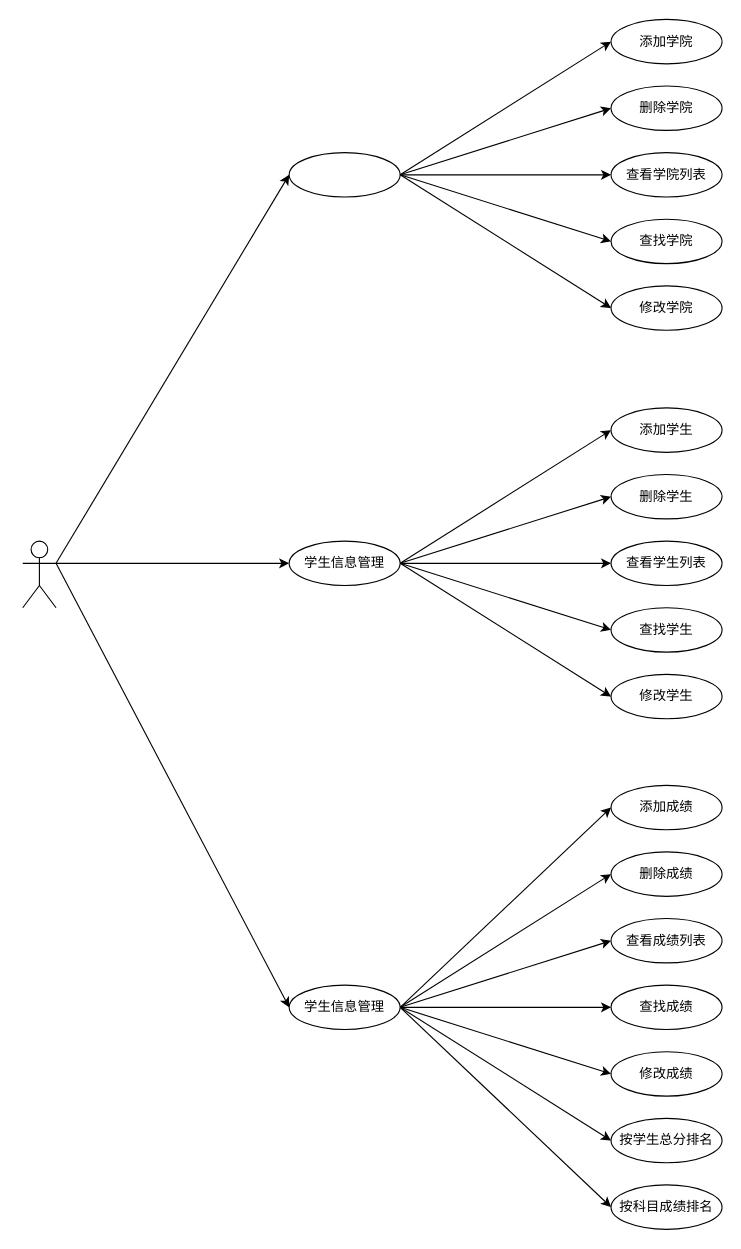
Some shapes in this 741 by 1249 pixel diagram are drawn without their labels. Here are the shapes that lost their labels. From the top down, the centre of each, then its label:
At pixel 344 174: "学院信息管理".
At pixel 39 574: "管理员".
